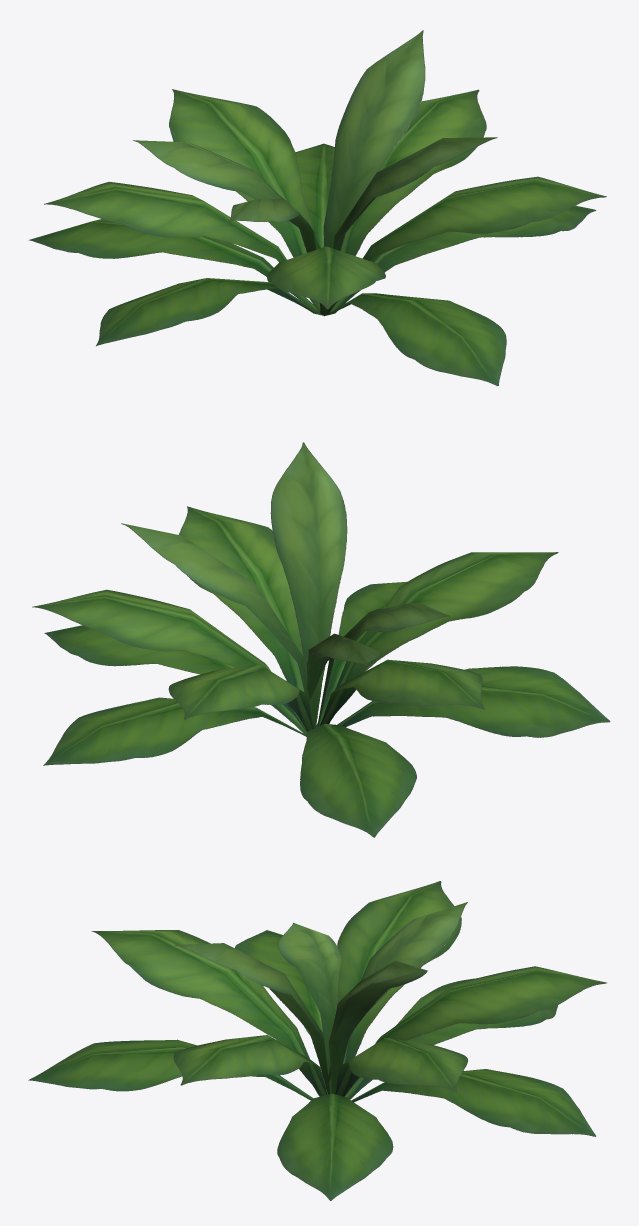
Rendered from Jungle_plant_03.fbx.
3 views of the same model, one above another, from view 1: azimuth 30°, elevation 25°; view 2: azimuth 150°, elevation 25°; view 3: azimuth 270°, elevation 25° (orthographic). The views are drawn at different scales.
Visible parts, largest first — view 1: Jungle_plant_03; view 2: Jungle_plant_03; view 3: Jungle_plant_03.
Boxes of the visible parts, box(x1,y1,x2,y2) form: Jungle_plant_03: box(28, 30, 606, 386); Jungle_plant_03: box(32, 442, 610, 837); Jungle_plant_03: box(28, 881, 606, 1200).
Size of the model in its own units: 107 by 40.65 by 104.
